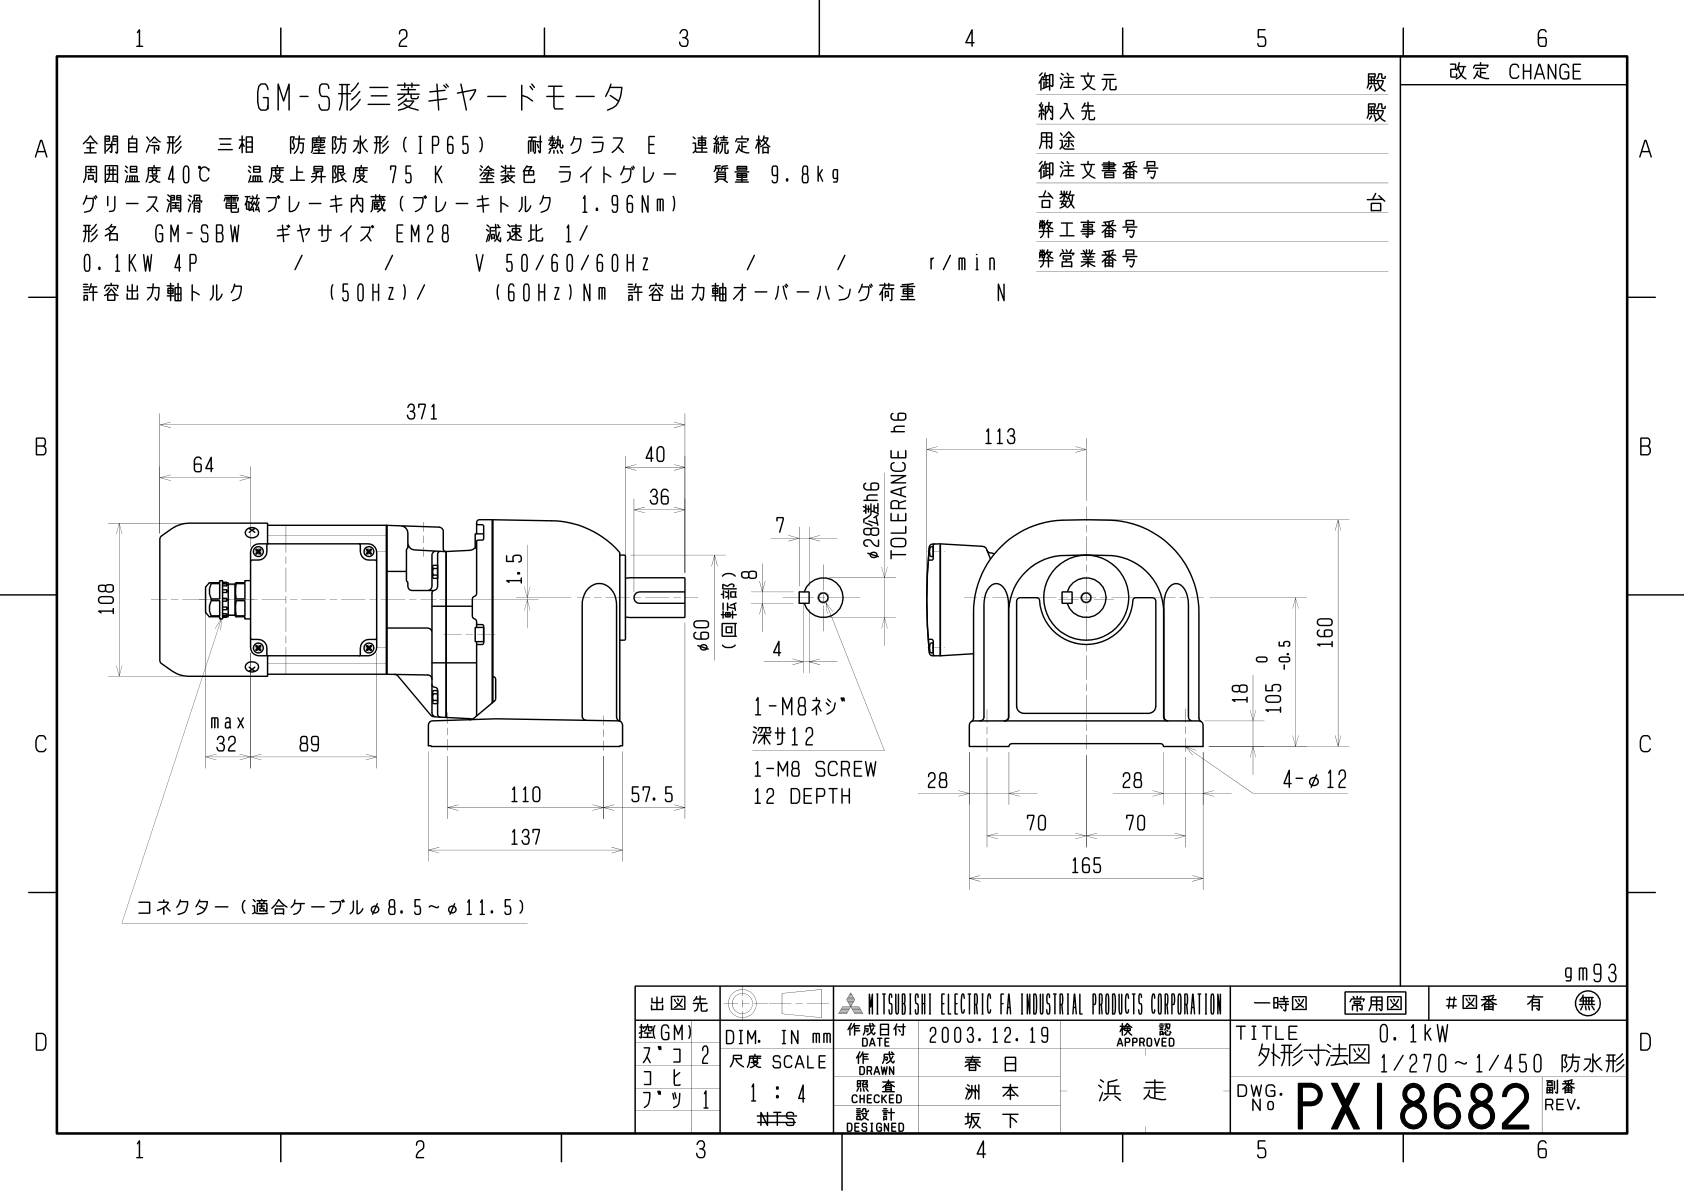GM_S_IP65＿三相_脚: (67, 336, 1367, 967)
